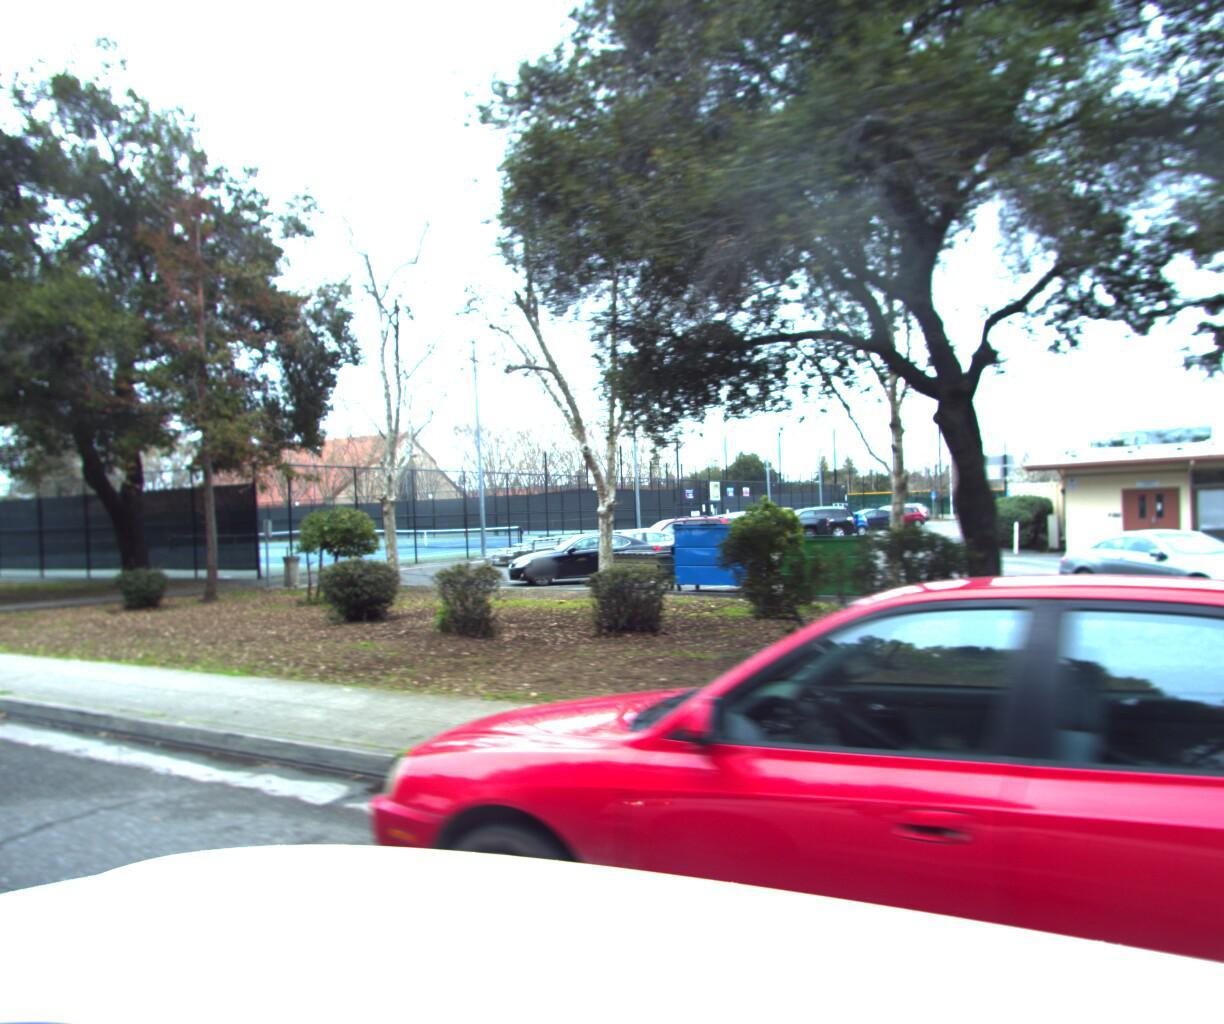car: (271, 513, 1224, 1024)
